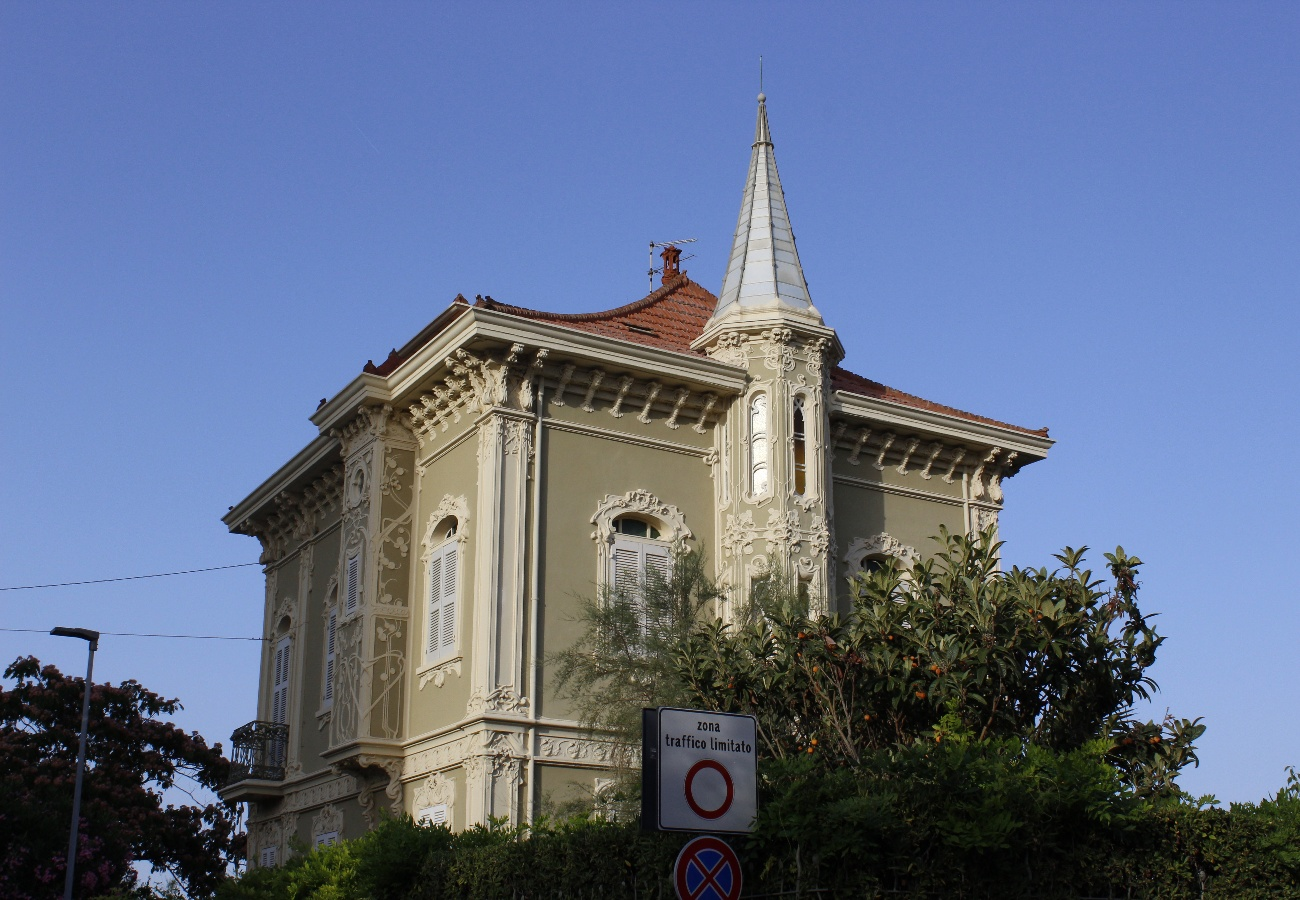Villino Ruggeri: (222, 92, 1057, 887)
